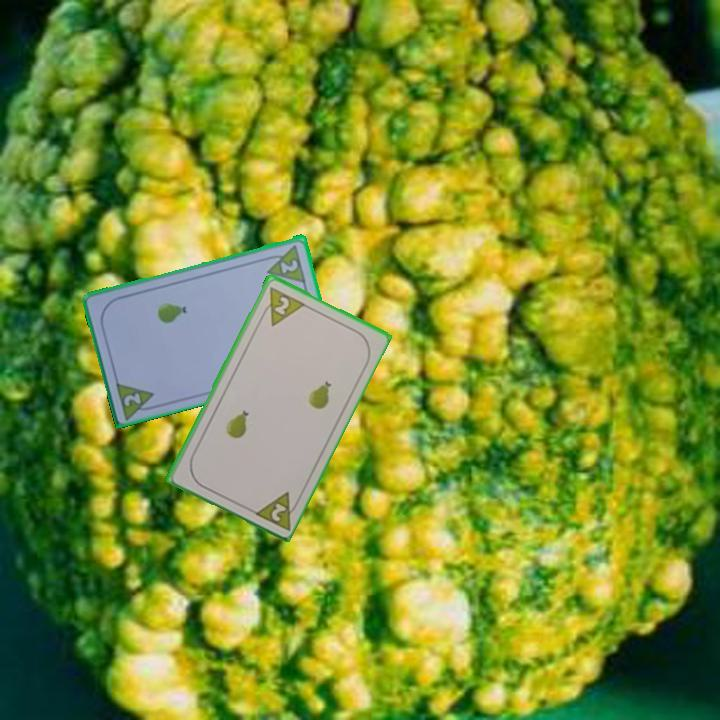2p: (249, 487, 302, 532), (256, 283, 307, 329), (112, 377, 161, 421), (261, 241, 309, 285)
